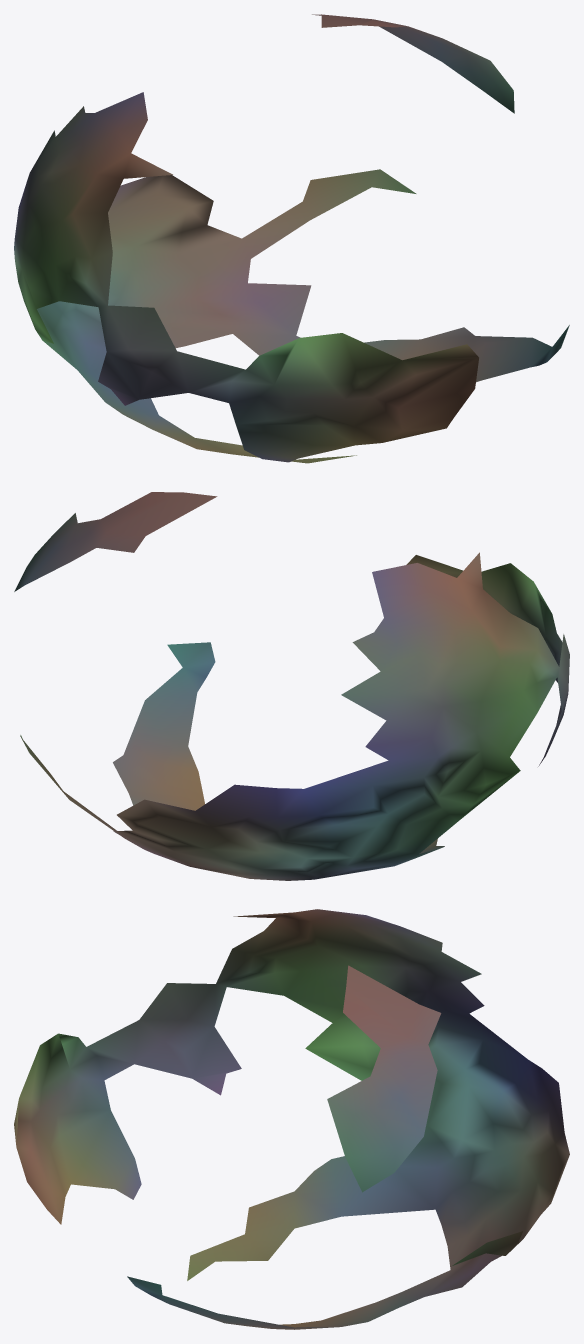
The picture shows the model from 3 angles, top to bottom: view 1: azimuth 30°, elevation 25°; view 2: azimuth 150°, elevation 25°; view 3: azimuth 270°, elevation 25°; orthographic projection. The views are drawn at different scales.
Visible parts, largest first — view 1: starcloud126; view 2: starcloud126; view 3: starcloud126.
Part boxes in pixels (x1,y1,x2,y2): starcloud126: (14,14,569,463); starcloud126: (14,492,569,880); starcloud126: (14,909,569,1329).
Bounding box in the file's own units: 0.492 × 0.3434 × 0.5.
